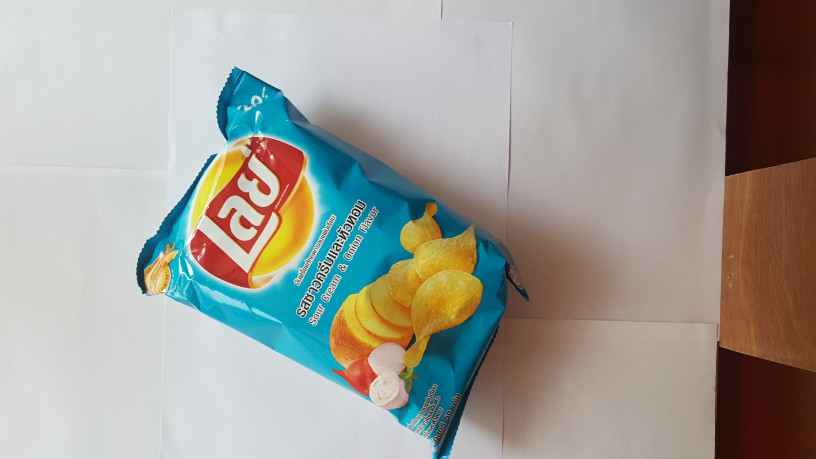lays-onion: (131, 68, 530, 459)
